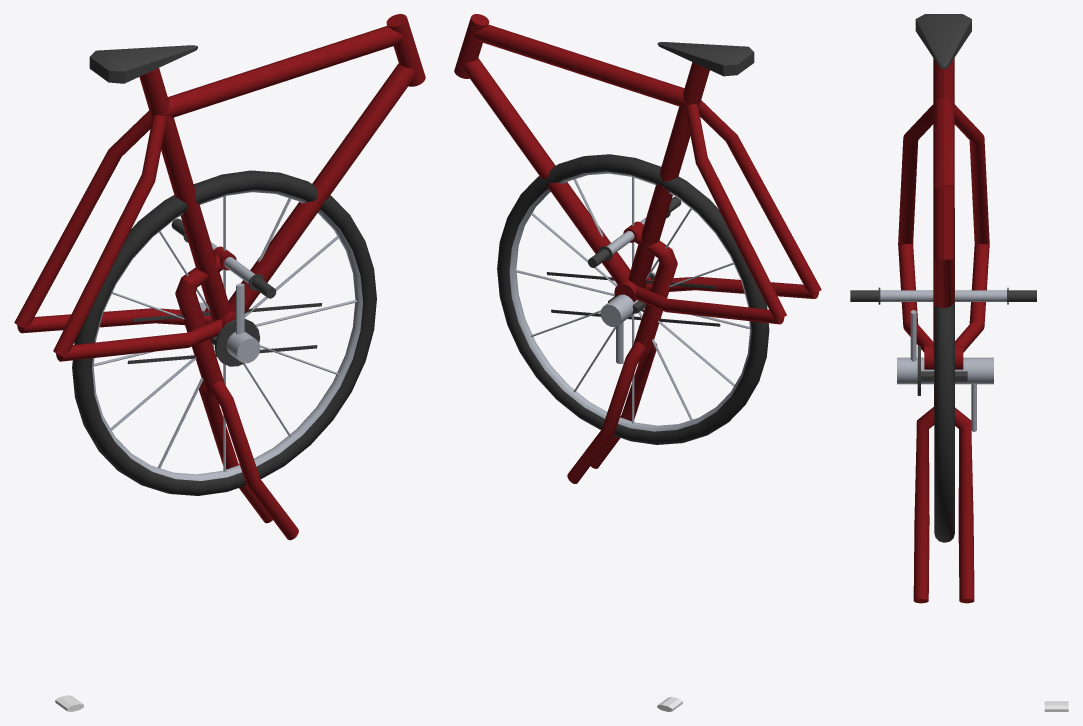
Rendered from Pedal.fbx.
The picture shows the model from 3 angles, left to right: view 1: azimuth 30°, elevation 25°; view 2: azimuth 150°, elevation 25°; view 3: azimuth 270°, elevation 25°; orthographic projection. The views are drawn at different scales.
Visible parts, largest first — view 1: Frame, FrontWheel, Fork, BackWheel, Pedals, Chain; view 2: Frame, BackWheel, Fork, FrontWheel, Chain; view 3: Frame, Fork, BackWheel, FrontWheel, Pedals.
Boxes of the visible parts, left/top/right/bottom form: Frame: left=14, top=14, right=425, bottom=361; FrontWheel: left=74, top=171, right=376, bottom=495; Fork: left=171, top=218, right=298, bottom=540; BackWheel: left=72, top=170, right=356, bottom=474; Pedals: left=212, top=283, right=260, bottom=366; Chain: left=127, top=303, right=321, bottom=364; Frame: left=454, top=14, right=821, bottom=324; BackWheel: left=497, top=155, right=767, bottom=444; Fork: left=567, top=196, right=681, bottom=483; FrontWheel: left=515, top=154, right=769, bottom=426; Chain: left=546, top=272, right=720, bottom=326; Frame: left=898, top=14, right=989, bottom=369; Fork: left=850, top=287, right=1036, bottom=603; BackWheel: left=897, top=208, right=993, bottom=542; FrontWheel: left=934, top=306, right=944, bottom=542; Pedals: left=910, top=310, right=976, bottom=431.
Size of the model in its own units: 92.97 by 158 by 45.7.
